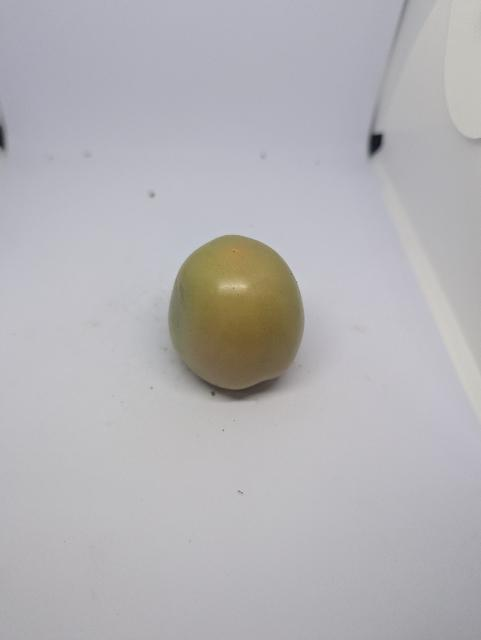breaker: (165, 232, 307, 395)
